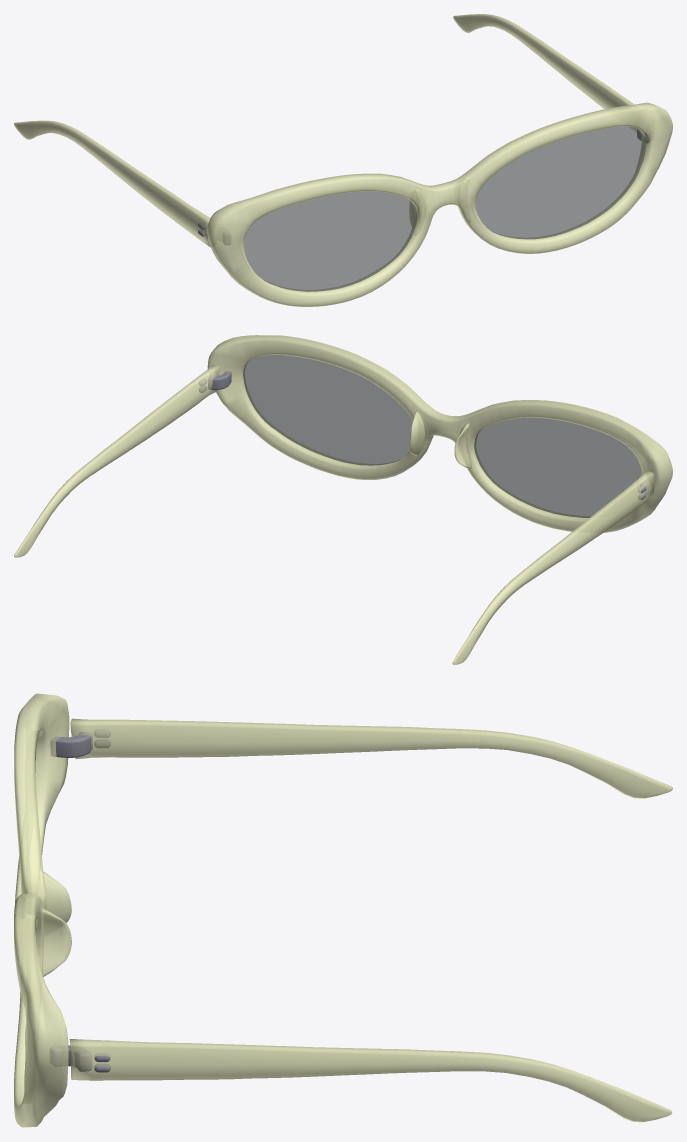
Rendered from pear.glb.
3 views of the same model, one above another, from view 1: azimuth 30°, elevation 25°; view 2: azimuth 150°, elevation 25°; view 3: azimuth 270°, elevation 25° (orthographic). The views are drawn at different scales.
Parts seen in each view (by area): view 1: model_6.007; view 2: model_6.007; view 3: model_6.007.
Part boxes in pixels (bbox=[...]): model_6.007: bbox=[14, 14, 672, 306]; model_6.007: bbox=[14, 335, 672, 664]; model_6.007: bbox=[14, 693, 672, 1127].
Bounding box in the file's own units: 2.21 × 0.5738 × 1.81.
